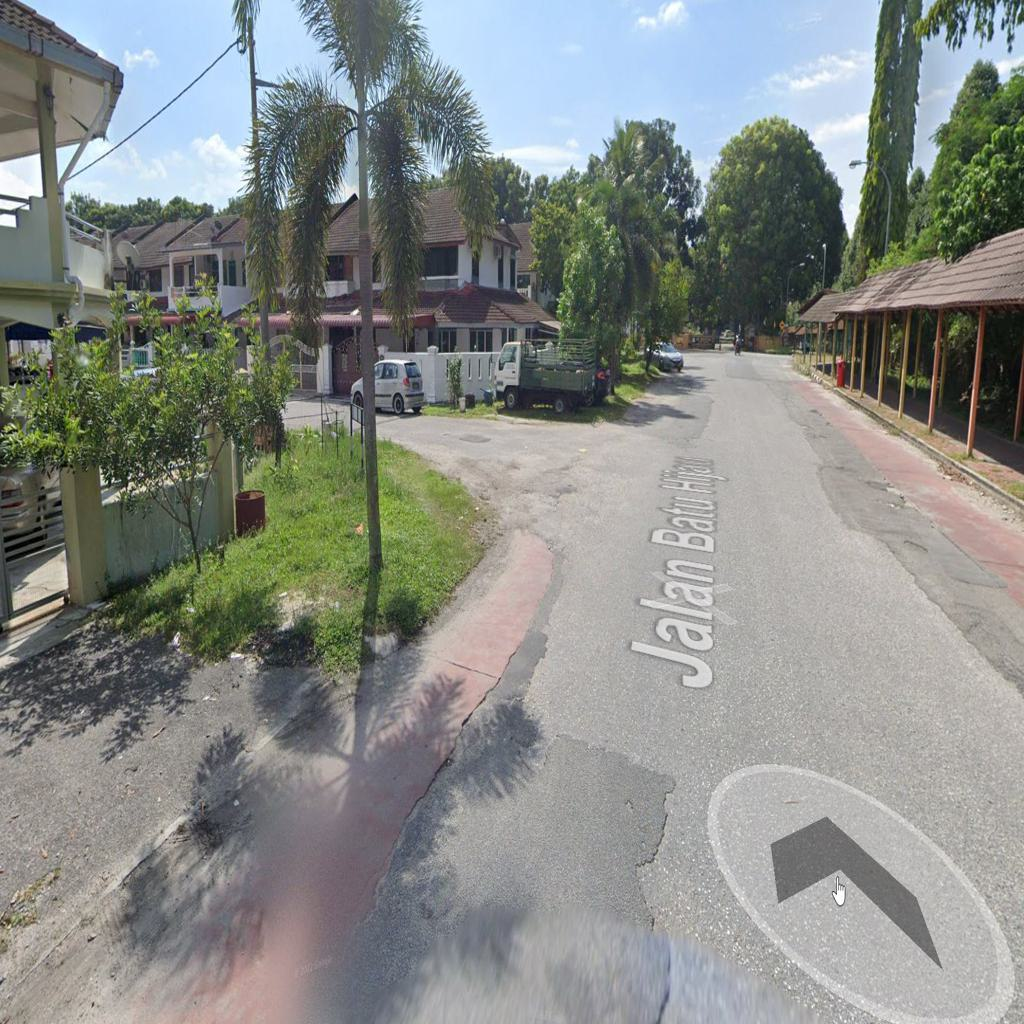Junction: (378, 376, 696, 603)
